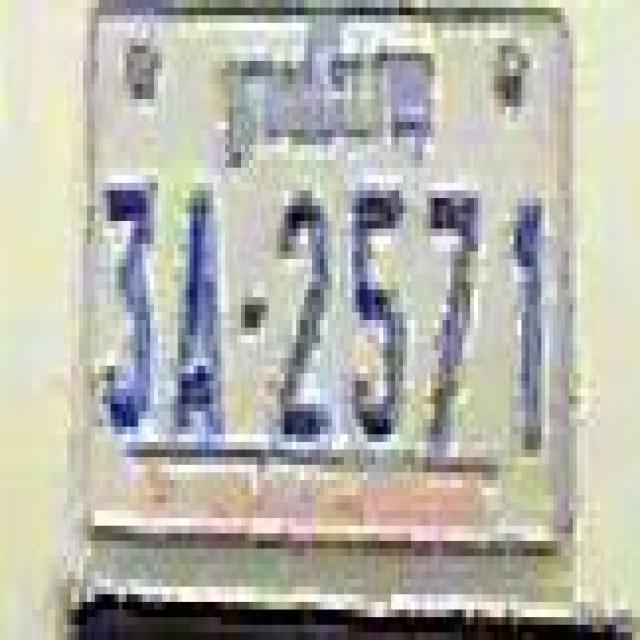Preah_Sihanouk: (225, 23, 435, 166)
